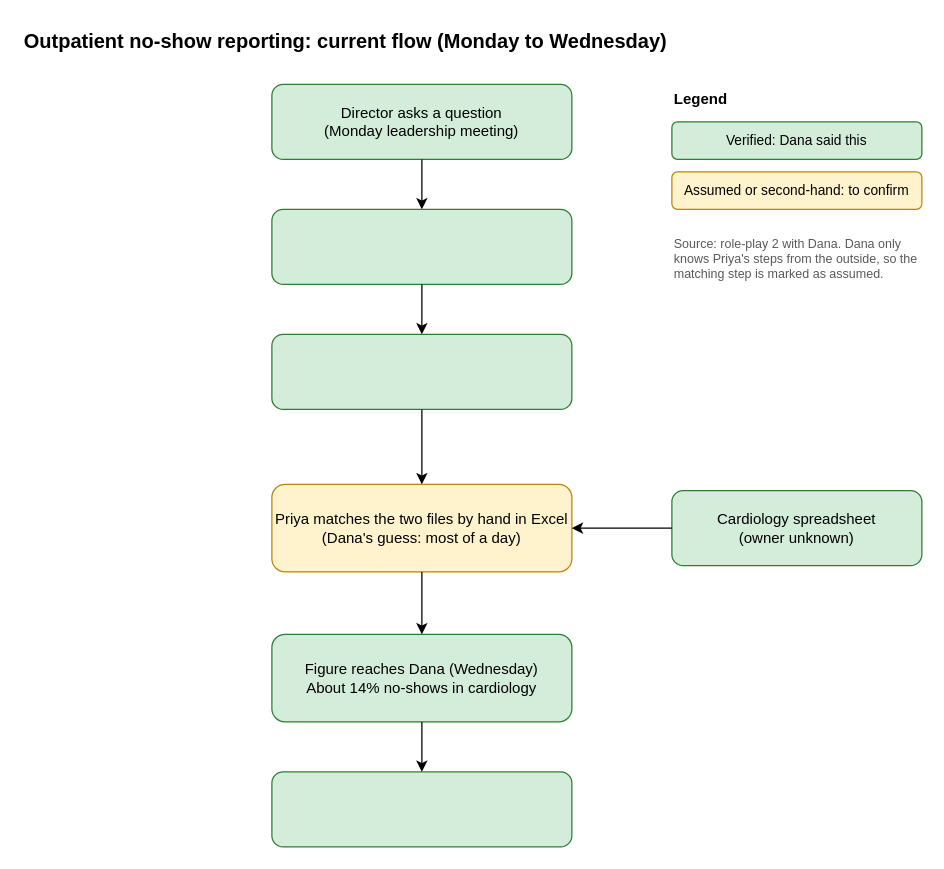
Image size: 944x869. Some labels were removed from this diagram. The centre of each missing label's shape, as x and y in pixels:
Dana messages Priya: the point at 421,246
Pilot decision parked to next month's meeting: the point at 421,809
Priya exports data from the booking system: the point at 421,371
